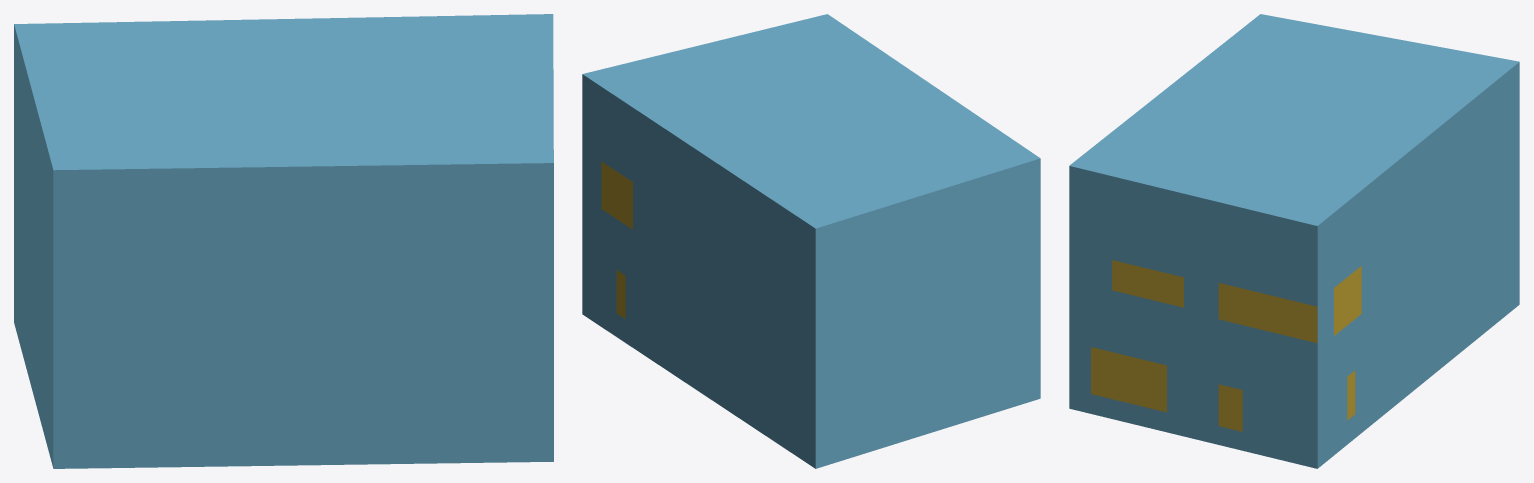
The model's file is bldg_239914f7-07cb-4cea-9dd0-72f794aad854.obj.
3 views of the same model, side by side, from view 1: azimuth 30°, elevation 25°; view 2: azimuth 150°, elevation 25°; view 3: azimuth 270°, elevation 25° (orthographic). The views are drawn at different scales.
Size of the model in its own units: 14.55 by 7.77 by 13.06.
